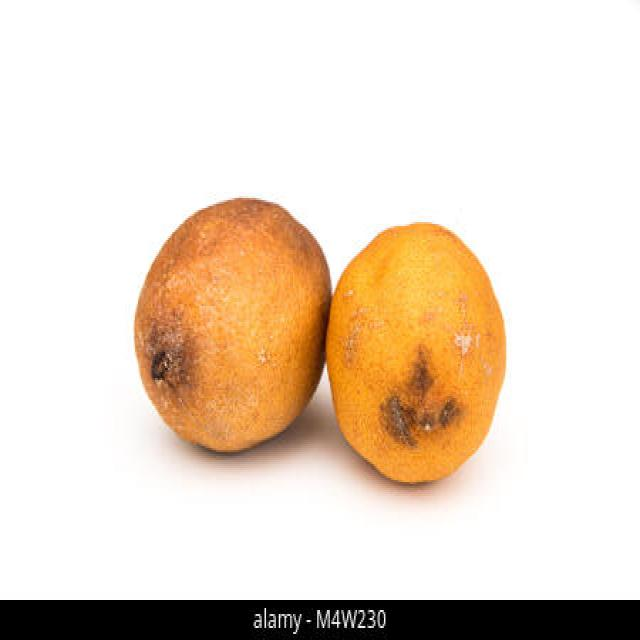overripe: (129, 191, 334, 460), (328, 218, 510, 487)
